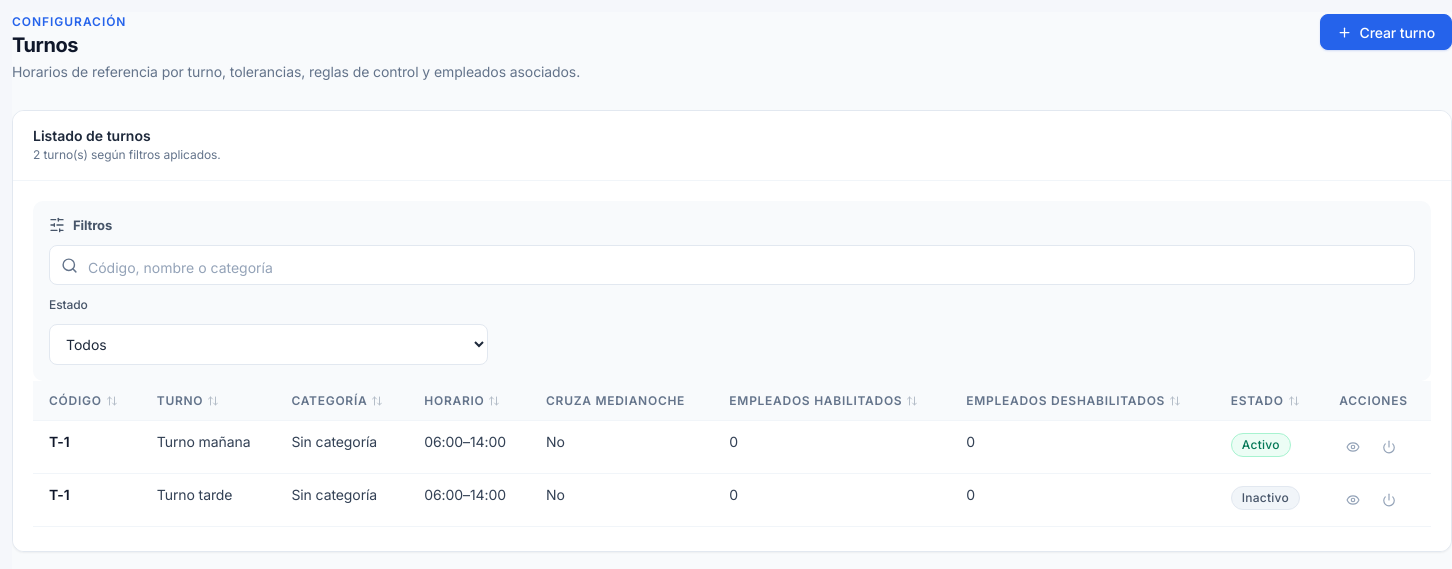
Scenario: ShiftsPage — Etapa 9C (refresh silencioso pendiente de 9B) › el filtro de estado sigue funcionando después del refresh silencioso
Check: the text "Turno mañana" is shown, box [141,421,275,474]
Check: the text "Turno tarde" is shown, box [141,474,275,527]
Select "Inactivo" in the dropdown labelled "Estado" at (269, 345), box [49,324,488,365]
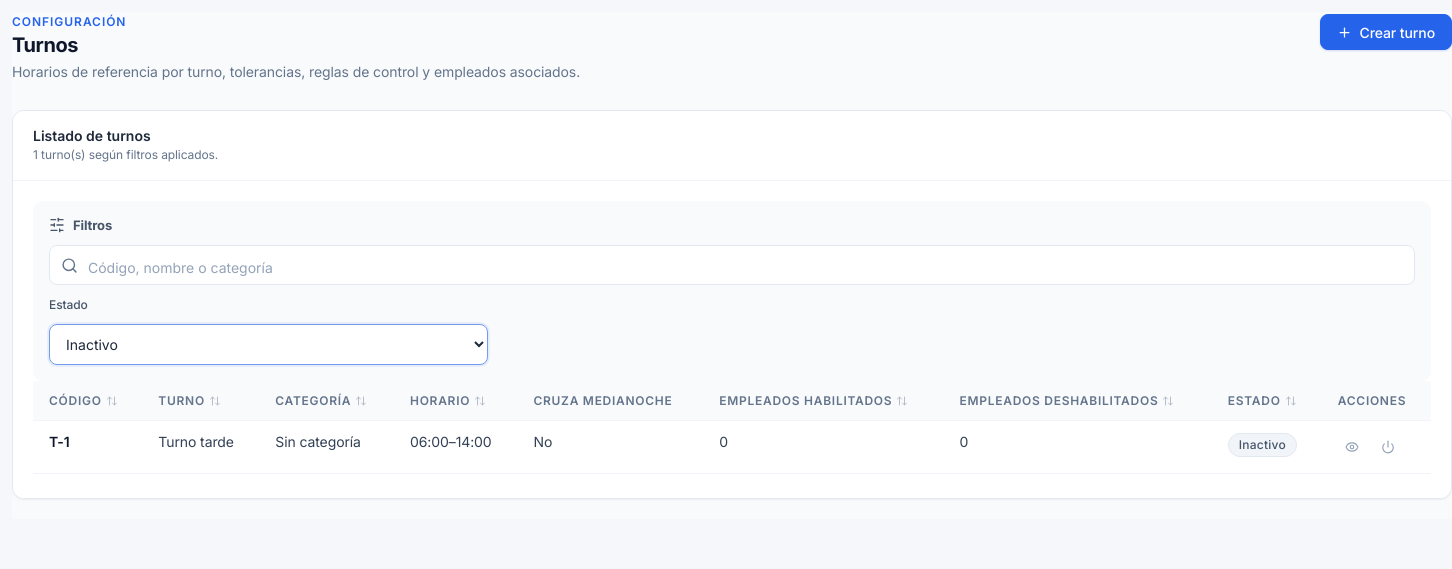
Check: the text "Turno tarde" is shown, box [142,421,259,474]
Check: the text "Turno mañana" is gone
